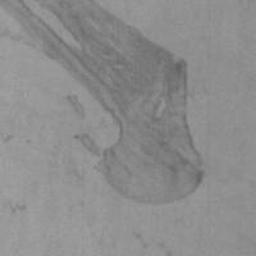Water spot: (0, 0, 205, 206)
